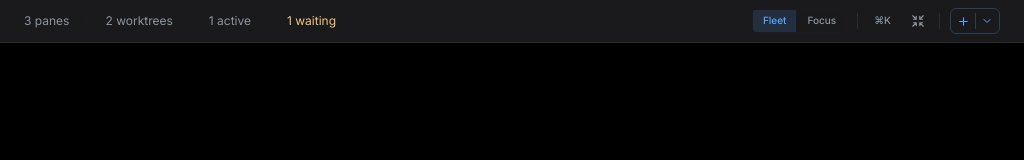
Test: ResourceBar attention stat › shows the shortcut only in the tooltip
Hover over the element showing "1 waiting".
mouse_move(312, 21)  # box [287,13,336,29]
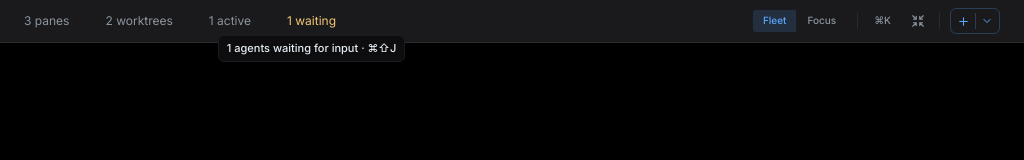
Expected: the tooltip reads "1 agents waiting for input · ⌘⇧J", [227,41,396,55]
